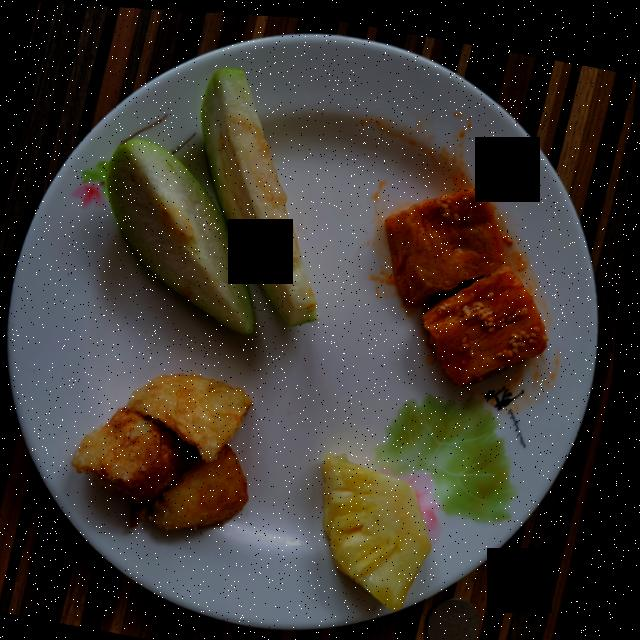coin: (435, 591, 488, 640)
creamy tofu: (387, 179, 552, 379)
fried potato: (78, 371, 258, 527)
guava -sliced-: (107, 65, 320, 331)
pineapple: (329, 448, 439, 605)
